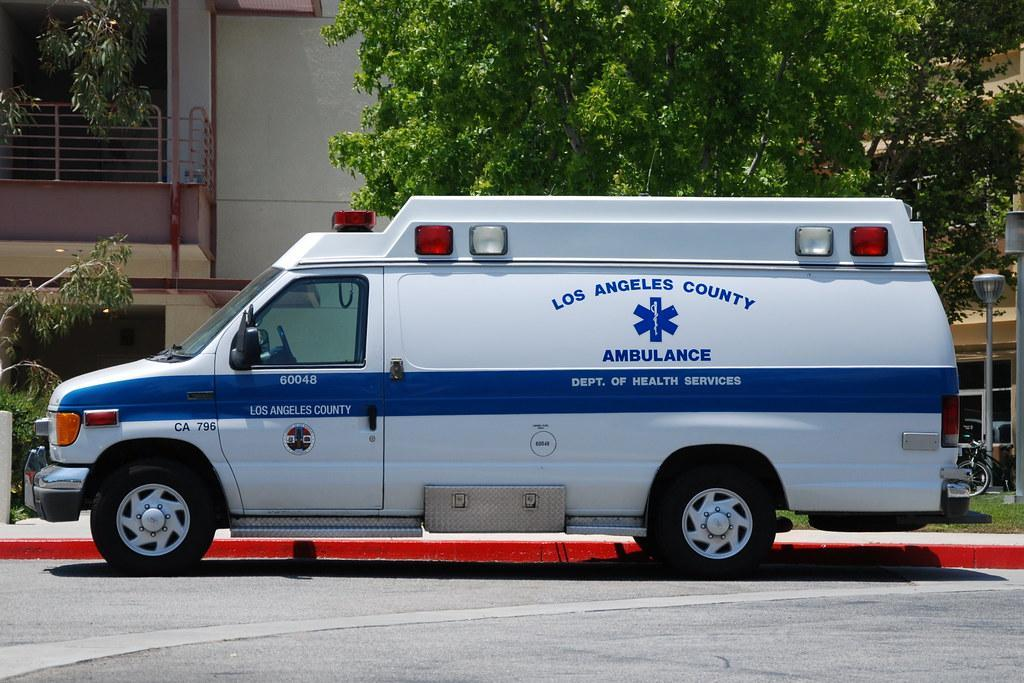Ambulance: (630, 295, 683, 343)
